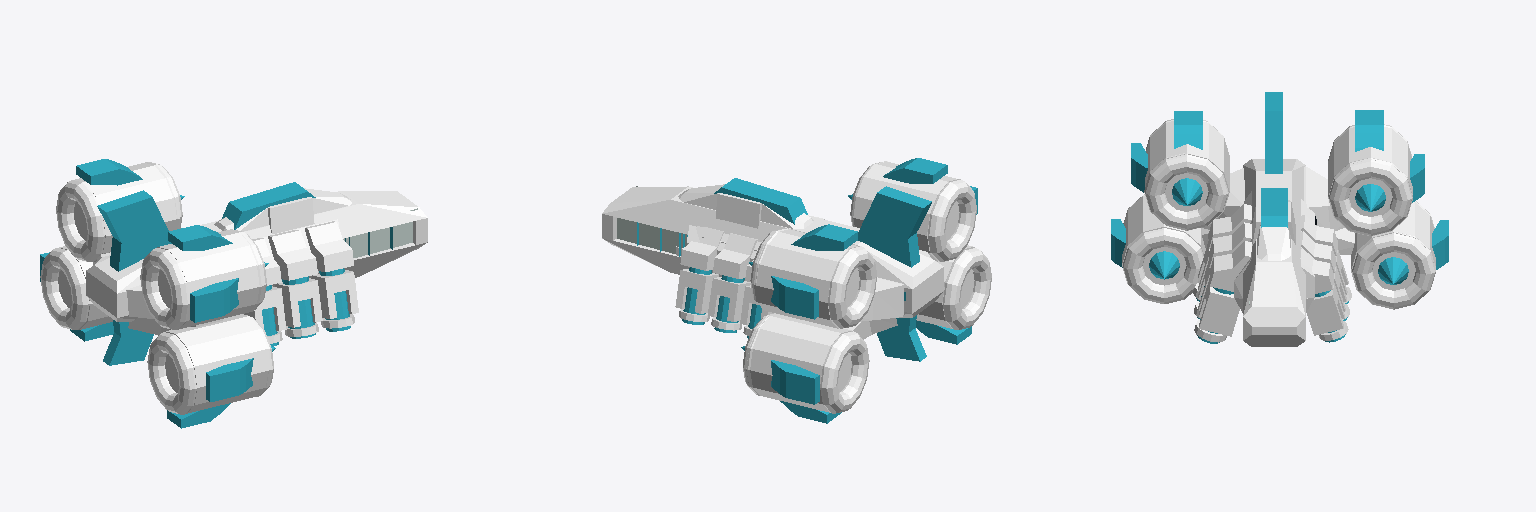
The picture shows the model from 3 angles: view 1: azimuth 30°, elevation 25°; view 2: azimuth 150°, elevation 25°; view 3: azimuth 270°, elevation 25°; orthographic projection.
Parts seen in each view (by area): view 1: group[number redacted], group[number redacted], group[number redacted]; view 2: group[number redacted], group[number redacted], group[number redacted]; view 3: group[number redacted], group[number redacted].
Part boxes in pixels (left/top/right/bottom): group[number redacted]: left=40, top=162, right=427, bottom=414; group[number redacted]: left=40, top=159, right=392, bottom=428; group[number redacted]: left=343, top=208, right=417, bottom=257; group[number redacted]: left=602, top=161, right=991, bottom=413; group[number redacted]: left=637, top=158, right=977, bottom=423; group[number redacted]: left=617, top=186, right=686, bottom=253; group[number redacted]: left=1122, top=119, right=1435, bottom=346; group[number redacted]: left=1111, top=92, right=1448, bottom=343.
Size of the model in its own units: 0.81 by 0.45 by 0.7562.